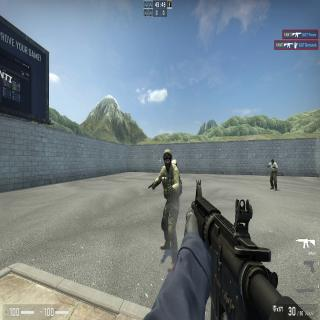CT-Body: (158, 148, 180, 264)
CT-Head: (270, 158, 278, 190), (163, 150, 172, 166)
T-Head: (271, 158, 274, 165)
